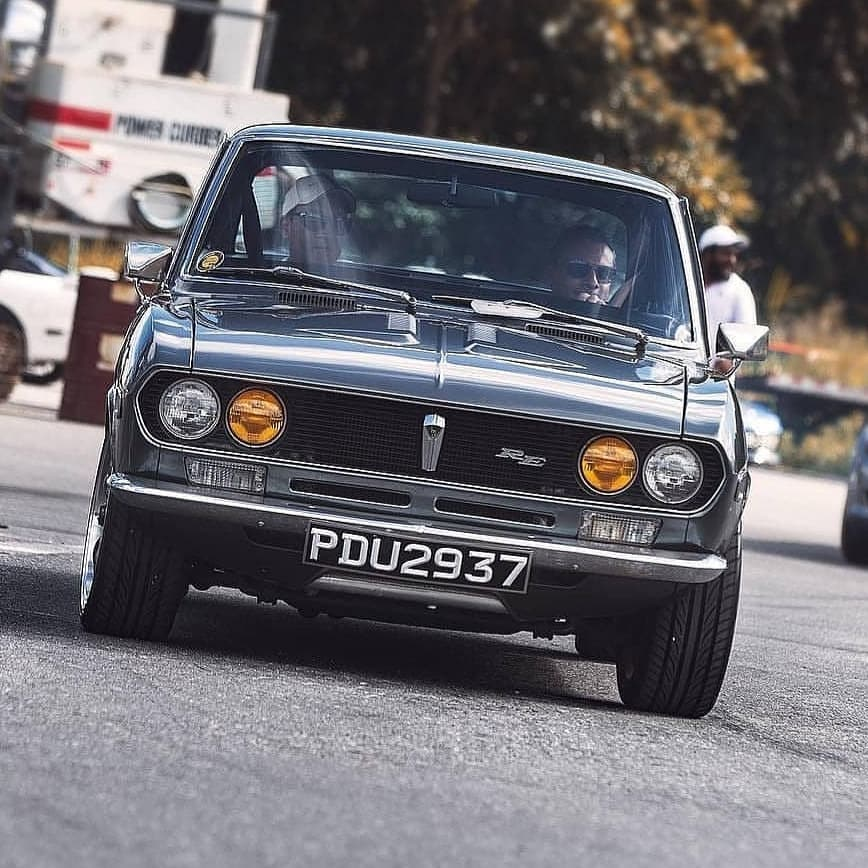License-Plate: (308, 522, 531, 564)
